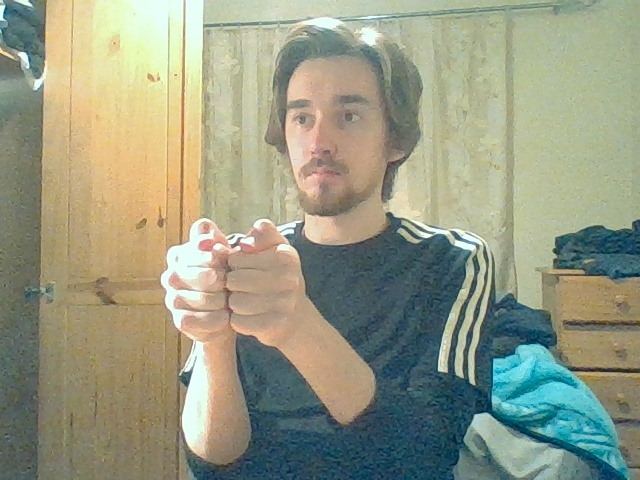brother: (160, 219, 307, 340)
